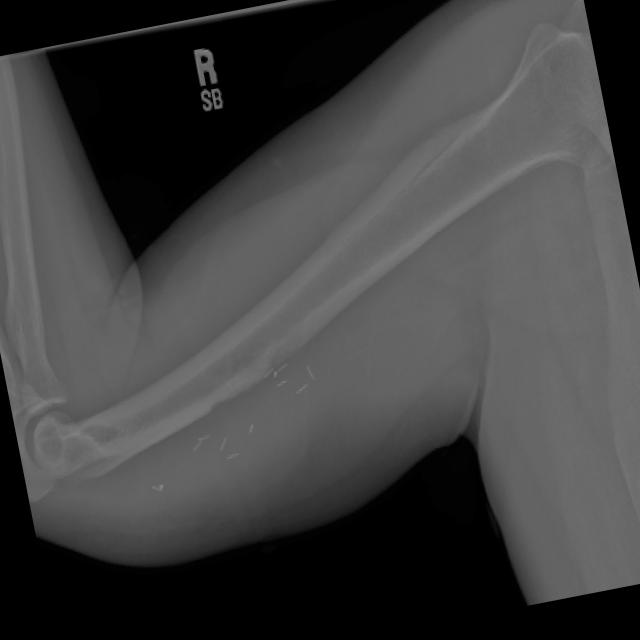humerus fracture: (353, 69, 531, 226)
